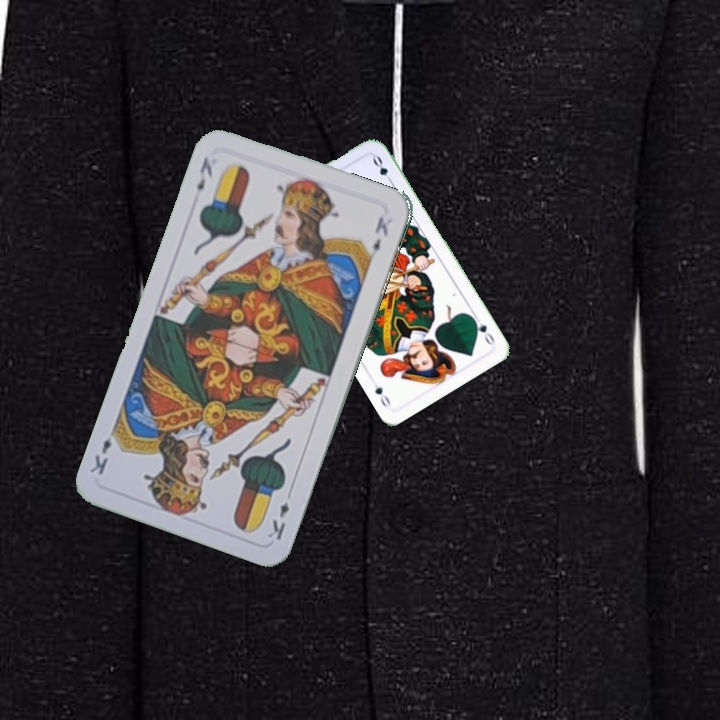EK: (263, 485, 295, 543), (188, 153, 215, 205)
GO: (468, 311, 497, 348)
